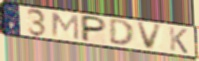3: (26, 8, 47, 39)
D: (108, 19, 136, 48)
K: (168, 26, 190, 55)
M: (51, 11, 81, 41)
P: (80, 14, 109, 43)
V: (136, 21, 164, 51)
